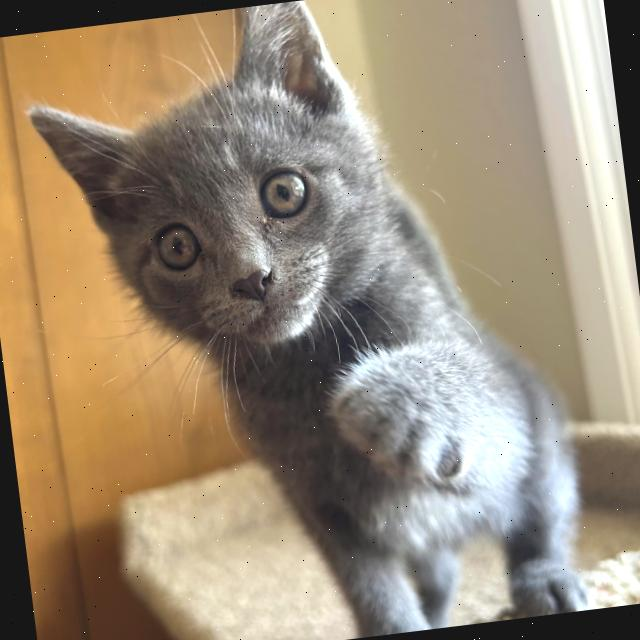russian_blue_cat: (8, 0, 421, 391)
